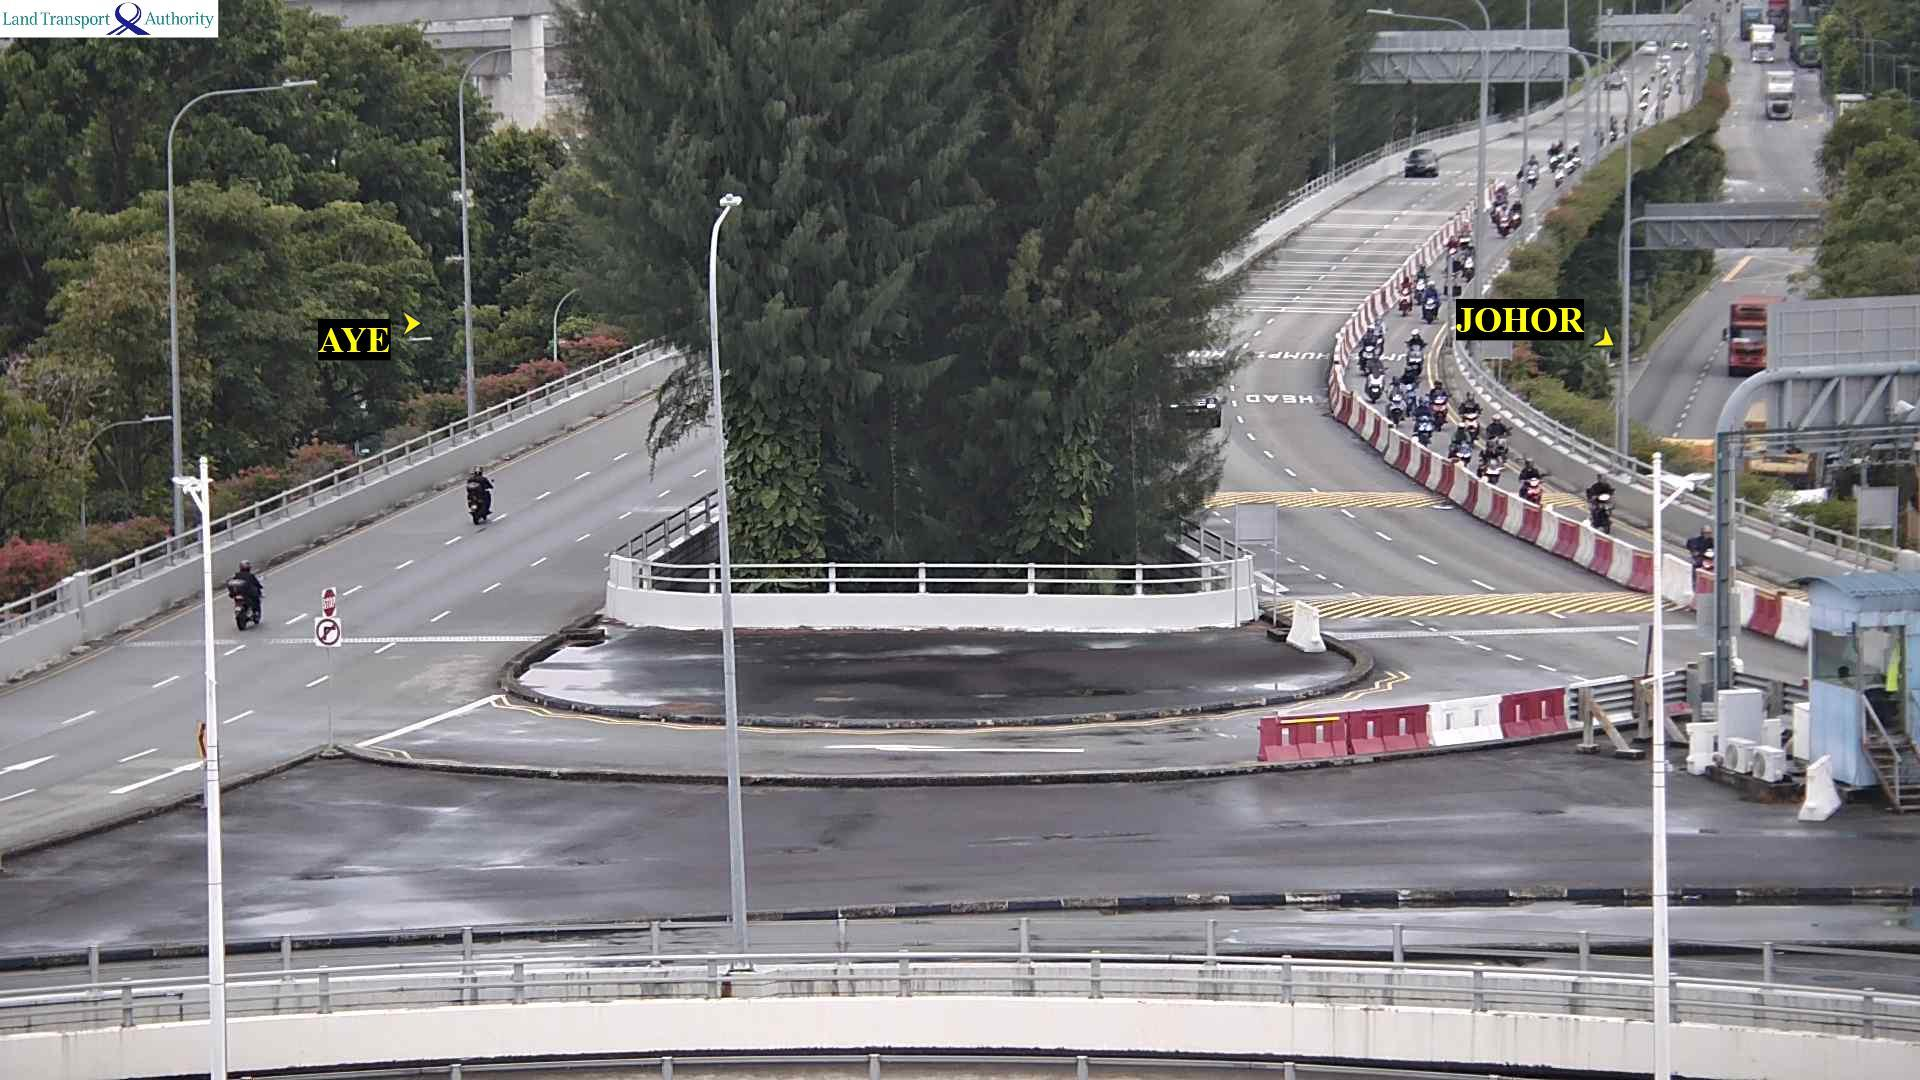vehicle-secondlink-johor: (1685, 538, 1724, 583), (1586, 479, 1618, 524), (1480, 419, 1511, 460), (1402, 150, 1439, 179), (1460, 400, 1486, 435), (1412, 398, 1429, 444), (1451, 426, 1469, 460), (1389, 377, 1402, 422), (1364, 328, 1379, 363), (1407, 332, 1423, 365), (1367, 359, 1382, 394), (1431, 378, 1444, 417), (1424, 280, 1437, 318), (1415, 264, 1431, 295), (1494, 185, 1509, 212), (1569, 141, 1581, 173), (1499, 206, 1510, 235), (1552, 140, 1564, 164), (1511, 199, 1520, 227), (1400, 278, 1407, 311), (1528, 157, 1535, 190), (1557, 167, 1563, 186)
vehicle-secondlink-singapore: (225, 564, 268, 628), (465, 469, 505, 522)
